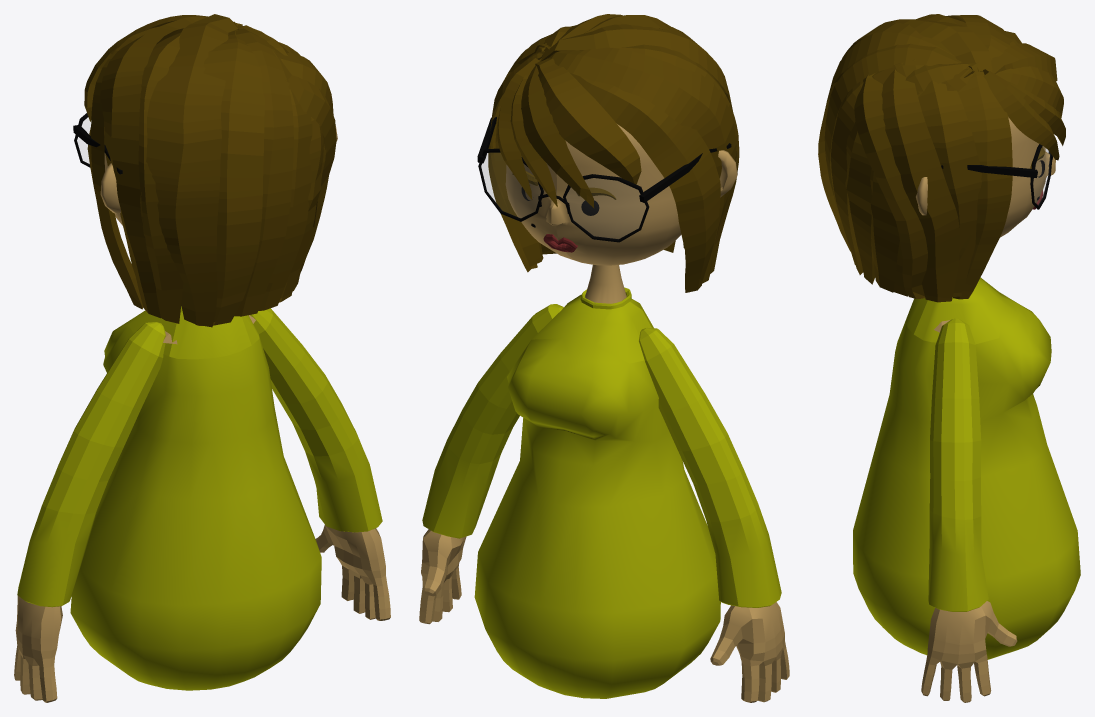
File: BEA_201120.fbx
3 renders of one model, left to right at view 1: azimuth 30°, elevation 25°; view 2: azimuth 150°, elevation 25°; view 3: azimuth 270°, elevation 25°, orthographic. The views are drawn at different scales.
Visible parts, largest first — view 1: Bea_body, Bea_hair, Bea_arm_R, Bea_arm_L, Bea_glasses, Bea_ear_R; view 2: Bea_body, Bea_hair, Bea_arm_R, Bea_arm_L, Bea_head, Bea_glasses, Bea_neck, Bea_ear_R; view 3: Bea_hair, Bea_body, Bea_arm_L, Bea_head, Bea_glasses.
Boxes of the visible parts, x1,y1,x2,y2 form: Bea_body: [70, 306, 321, 690]; Bea_hair: [84, 14, 336, 327]; Bea_arm_R: [14, 322, 165, 702]; Bea_arm_L: [250, 308, 390, 620]; Bea_glasses: [73, 113, 122, 174]; Bea_ear_R: [100, 163, 120, 214]; Bea_body: [474, 287, 720, 698]; Bea_hair: [488, 14, 739, 292]; Bea_arm_R: [639, 327, 789, 702]; Bea_arm_L: [419, 304, 563, 624]; Bea_head: [505, 124, 681, 265]; Bea_glasses: [477, 117, 731, 242]; Bea_neck: [585, 265, 626, 303]; Bea_ear_R: [718, 150, 737, 197]; Bea_hair: [818, 14, 1065, 302]; Bea_body: [853, 277, 1080, 659]; Bea_arm_L: [921, 318, 1017, 702]; Bea_head: [1000, 117, 1055, 237]; Bea_glasses: [941, 144, 1052, 209].
Size of the model in its own units: 4.93 by 8.72 by 3.33.
